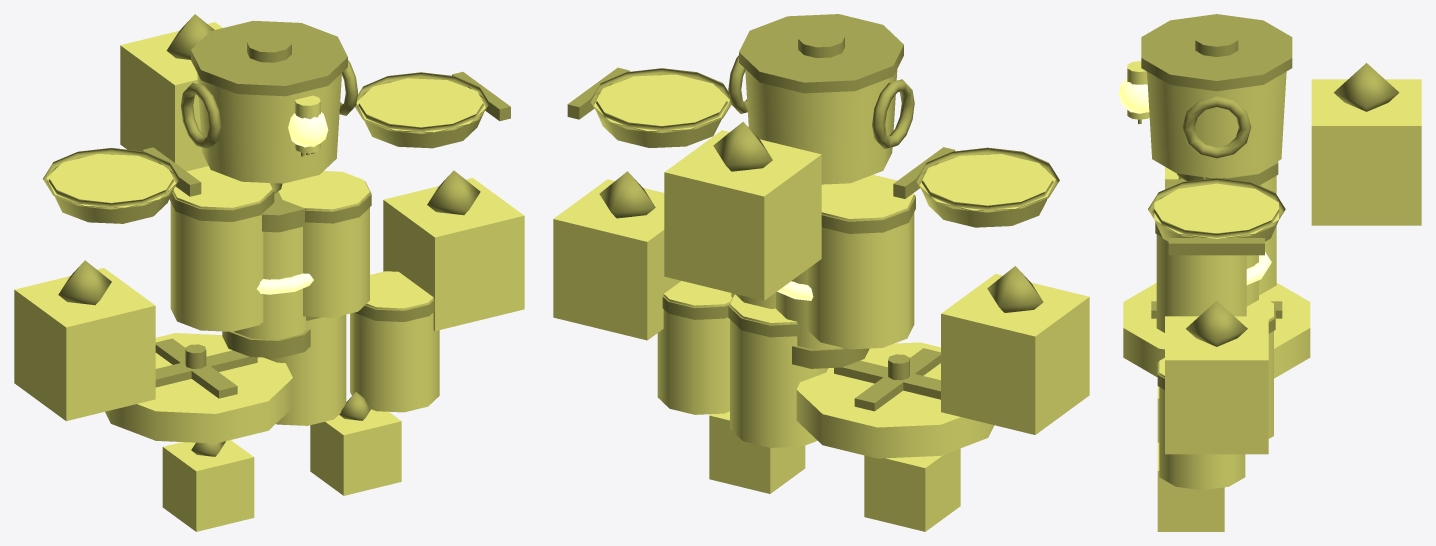
Rendered from golem_065.glb.
3 renders of one model, left to right at view 1: azimuth 30°, elevation 25°; view 2: azimuth 150°, elevation 25°; view 3: azimuth 270°, elevation 25°, orthographic. The views are drawn at different scales.
Visible parts, largest first — view 1: Body, Detail, Glow; view 2: Body, Detail; view 3: Body, Detail, Glow.
Boxes of the visible parts, x1,y1,x2,y2 form: Body: [14, 22, 524, 531]; Detail: [43, 14, 510, 456]; Glow: [257, 112, 328, 294]; Body: [553, 69, 1089, 531]; Detail: [567, 14, 1059, 411]; Body: [1123, 61, 1421, 531]; Detail: [1138, 14, 1399, 389]; Glow: [1118, 78, 1271, 284].
Bounding box in the file's own units: 1.29 × 1.19 × 0.7369.
